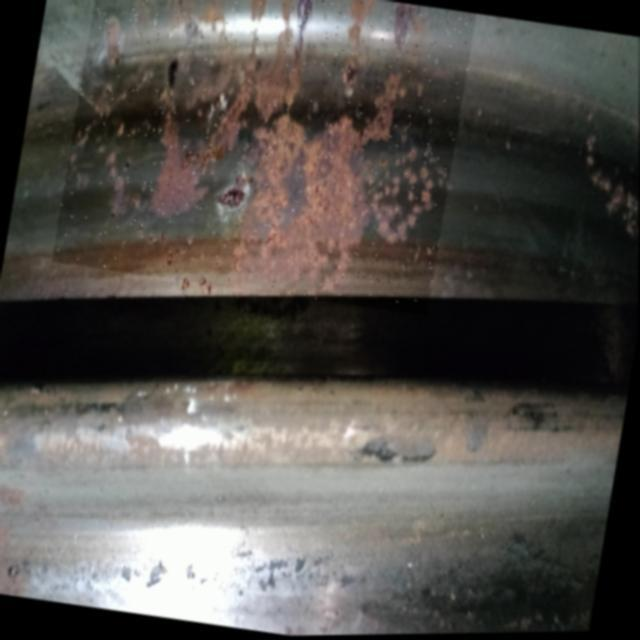Blue hole: (214, 181, 252, 225), (163, 56, 196, 100), (339, 57, 368, 90)
